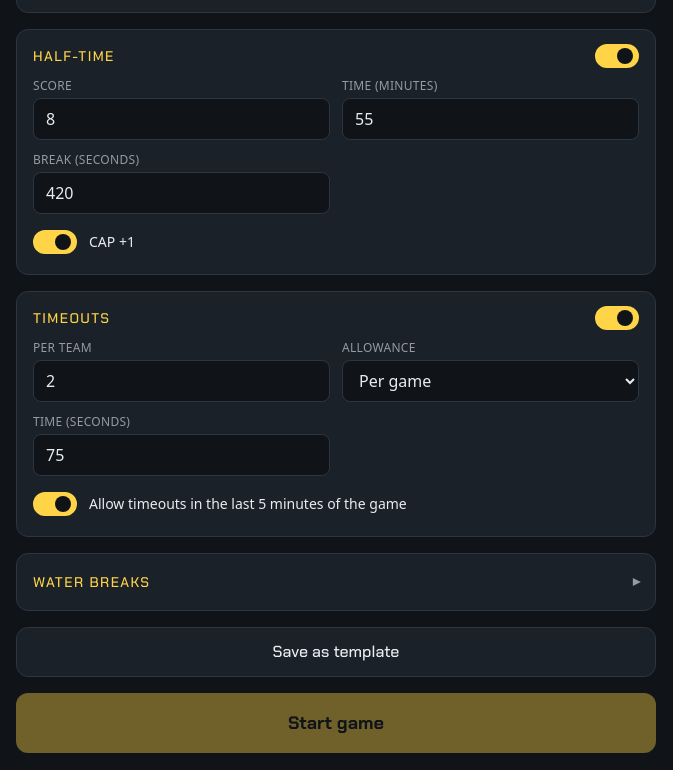
it: half-time switched off › hides the timeout allowance, and brings back per half with half-time
(page scrolled)
Select "Per half" in the dropdown below "Allowance" at (490, 381), box [342, 360, 639, 402]
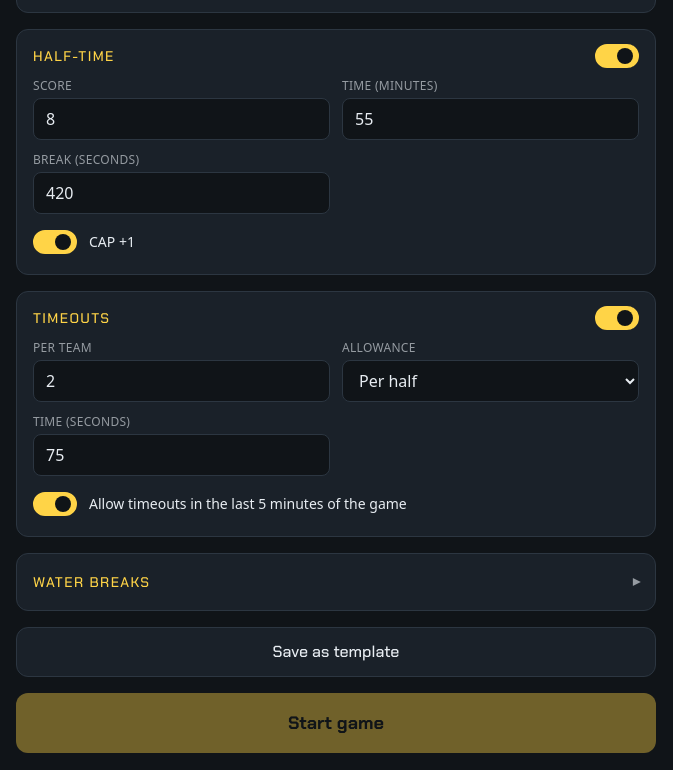
Click the checkbox named "Play a half-time" at (617, 56), box [595, 40, 639, 72]
(page scrolled)
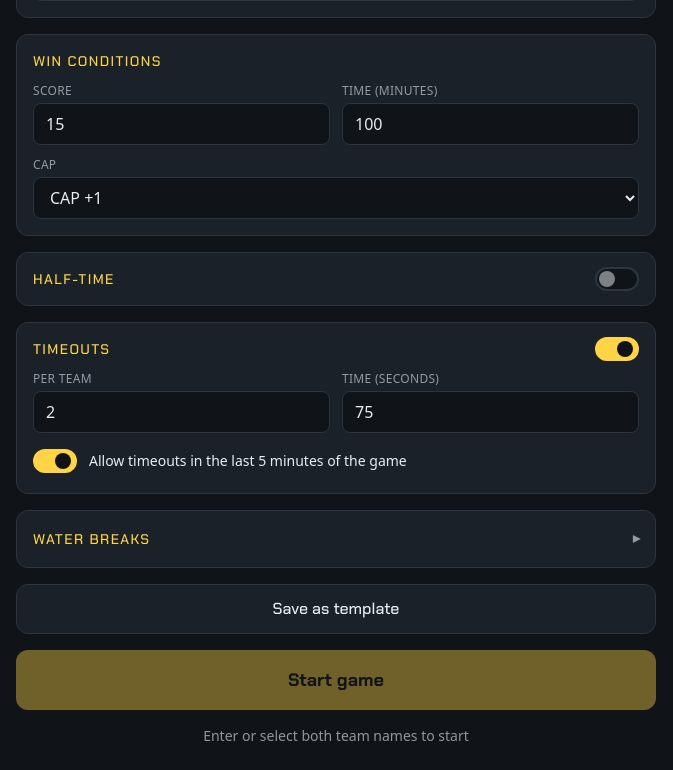
Expected: the text "Per team" is shown, [33, 370, 92, 387]
Now the text "Allowance" is gone
Click the checkbox named "Play a half-time" at (617, 279), box [595, 263, 639, 295]
(page scrolled)
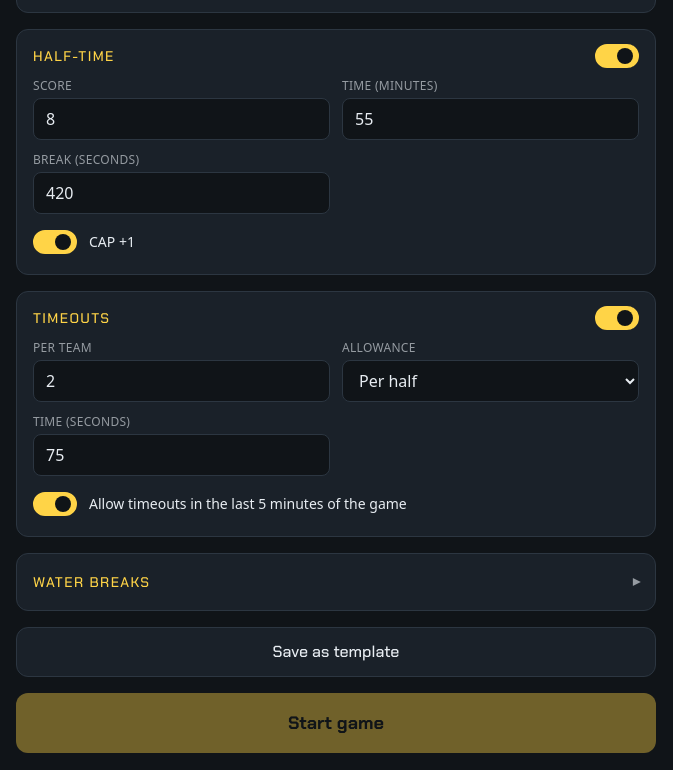
Now the dropdown below "Allowance" shows "Per half", box [342, 360, 639, 402]
